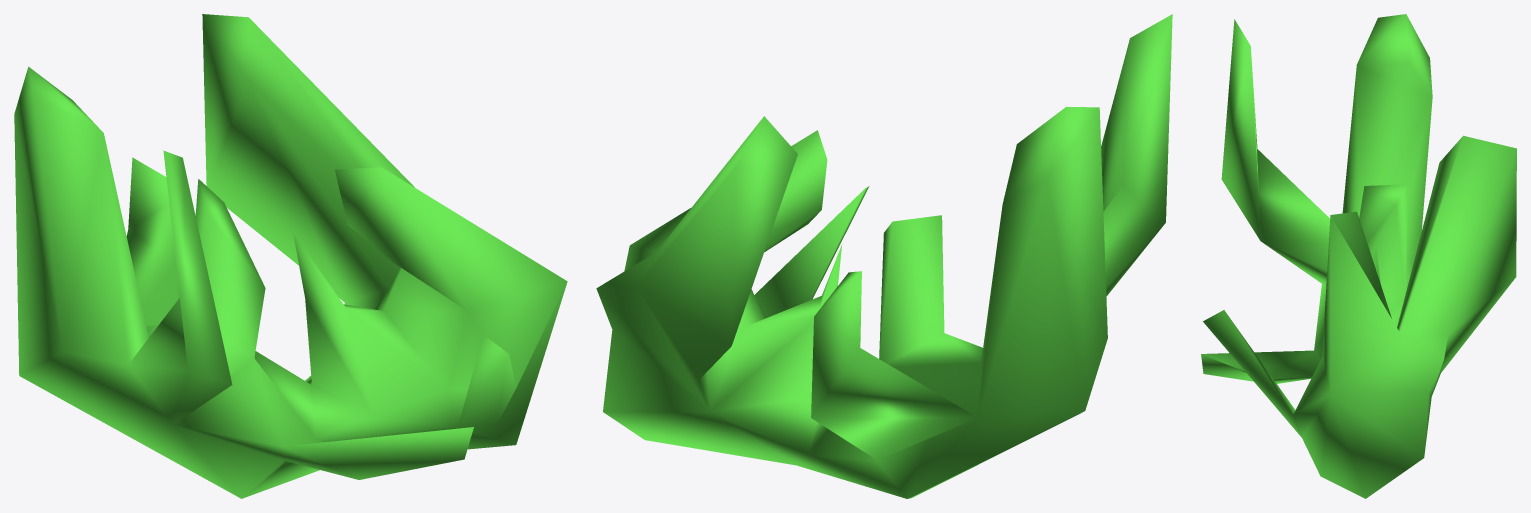
File: grass-b.glb
The picture shows the model from 3 angles, left to right: view 1: azimuth 30°, elevation 25°; view 2: azimuth 150°, elevation 25°; view 3: azimuth 270°, elevation 25°; orthographic projection. The views are drawn at different scales.
Parts seen in each view (by area): view 1: grass-b; view 2: grass-b; view 3: grass-b.
Boxes of the visible parts, bbox=[...] form: grass-b: bbox=[14, 14, 567, 498]; grass-b: bbox=[596, 14, 1172, 498]; grass-b: bbox=[1201, 14, 1516, 498].
Size of the model in its own units: 3.01 by 2.65 by 2.31.
